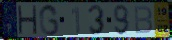1: (71, 6, 81, 35)
3: (87, 4, 106, 37)
9: (113, 4, 131, 37)
B: (133, 5, 154, 35)
G: (38, 3, 60, 37)
H: (17, 5, 38, 35)
